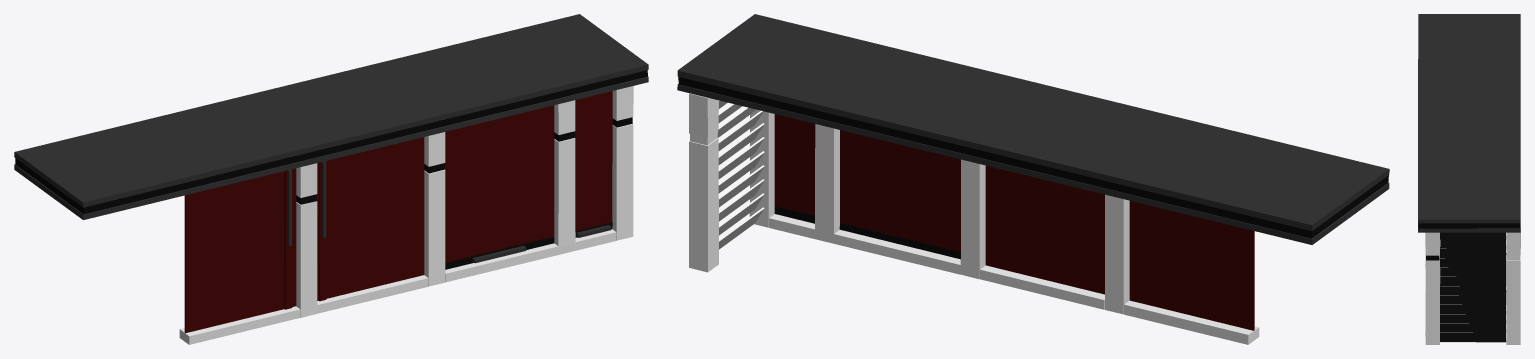
File: Kitchen furniture 5.FBX
The picture shows the model from 3 angles, left to right: view 1: azimuth 30°, elevation 25°; view 2: azimuth 150°, elevation 25°; view 3: azimuth 270°, elevation 25°; orthographic projection. The views are drawn at different scales.
Parts seen in each view (by area): view 1: Kitchen furniture 5; view 2: Kitchen furniture 5; view 3: Kitchen furniture 5.
Part boxes in pixels (x1,y1,x2,y2): Kitchen furniture 5: (14,14,648,344); Kitchen furniture 5: (677,14,1389,344); Kitchen furniture 5: (1418,14,1520,344).
Bounding box in the file's own units: 331 × 97 × 70.
